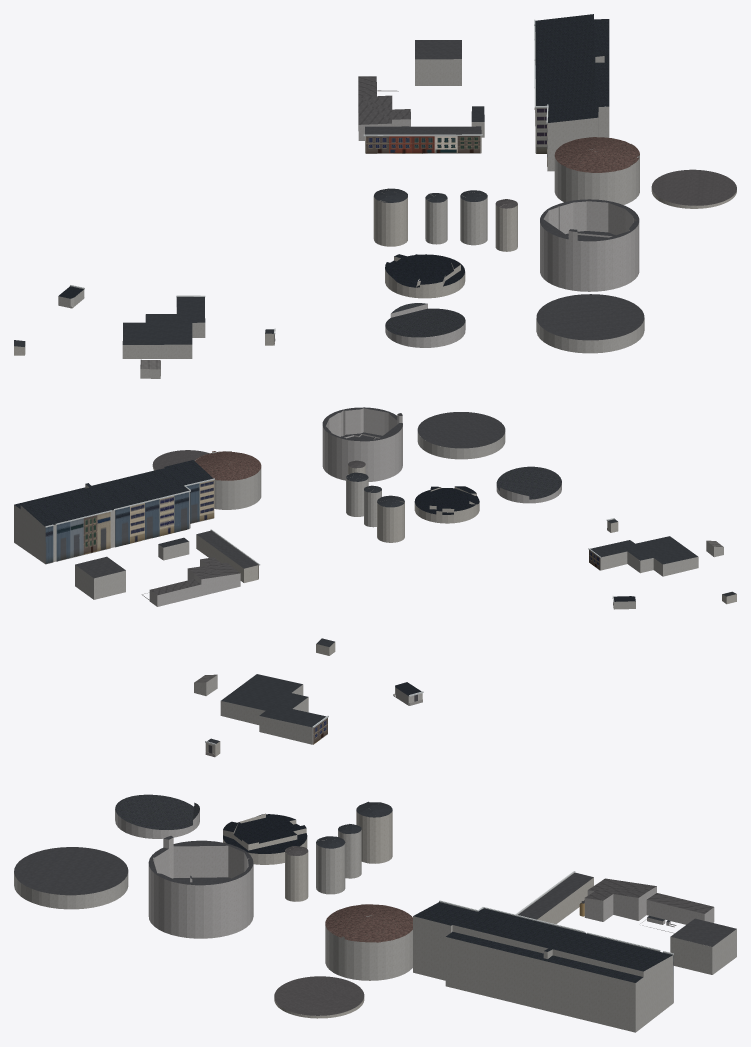
3 views of the same model, one above another, from view 1: azimuth 30°, elevation 25°; view 2: azimuth 150°, elevation 25°; view 3: azimuth 270°, elevation 25° (orthographic). The views are drawn at different scales.
Parts seen in each view (by area): view 1: bldg_6000064535, bldg_6003919429_roof, bldg_6000064519_roof, bldg_6000064792, bldg_6003919391_roof, bldg_6000064573_roof, bldg_6000064792_roof, bldg_6003919419_facade0, bldg_6000064503_roof, bldg_6000064489_roof, bldg_6003919429, bldg_6003919420_roof (+12 smaller); view 2: bldg_6003919429_roof, bldg_6000064535, bldg_6003919429_facade2, bldg_6000064519_roof, bldg_6003919429_facade3, bldg_6003919429, bldg_6003919391_roof, bldg_6000064489_roof, bldg_6000064792_roof, bldg_6000064792, bldg_6003919420, bldg_6000064503_roof (+17 smaller); view 3: bldg_6003919429, bldg_6000064535, bldg_6003919429_roof, bldg_6000064519_roof, bldg_6000064792, bldg_6000064573_roof, bldg_6000064792_roof, bldg_6003919391_roof, bldg_6003919420, bldg_6000064489_roof, bldg_6000064503_roof, bldg_6003919427 (+13 smaller).
Boxes of the visible parts, x1,y1,x2,y2 form: bldg_6000064535: (540,201,639,291); bldg_6003919429_roof: (535,14,609,122); bldg_6000064519_roof: (536,294,644,340); bldg_6000064792: (554,144,639,204); bldg_6003919391_roof: (122,297,205,344); bldg_6000064573_roof: (651,169,736,205); bldg_6000064792_roof: (554,137,639,172); bldg_6003919419_facade0: (363,134,482,153); bldg_6000064503_roof: (385,254,464,287); bldg_6000064489_roof: (385,303,465,337); bldg_6003919429: (535,32,609,171); bldg_6003919420_roof: (358,76,410,124); bldg_6003919429_roof: (14,460,213,526); bldg_6000064535: (322,408,402,481); bldg_6003919429_facade2: (113,490,190,547); bldg_6000064519_roof: (417,412,505,448); bldg_6003919429_facade3: (55,510,111,561); bldg_6003919429: (14,467,189,563); bldg_6003919391_roof: (590,536,697,564); bldg_6000064489_roof: (496,466,561,499); bldg_6000064792_roof: (195,451,261,480); bldg_6000064792: (195,451,261,509); bldg_6003919420: (149,560,240,606); bldg_6000064503_roof: (414,486,479,514); bldg_6003919429: (413,916,673,1032); bldg_6000064535: (148,837,253,938); bldg_6003919429_roof: (413,902,672,982); bldg_6000064519_roof: (14,847,128,895); bldg_6000064792: (325,904,412,980); bldg_6000064573_roof: (274,976,364,1015); bldg_6000064792_roof: (325,904,412,942); bldg_6003919391_roof: (221,674,326,727); bldg_6003919420: (584,886,714,924); bldg_6000064489_roof: (115,794,199,829); bldg_6000064503_roof: (223,814,307,853); bldg_6003919427: (670,929,736,974).
Size of the model in its own units: 252 by 19.15 by 200.
20 materials, 15 textured.
